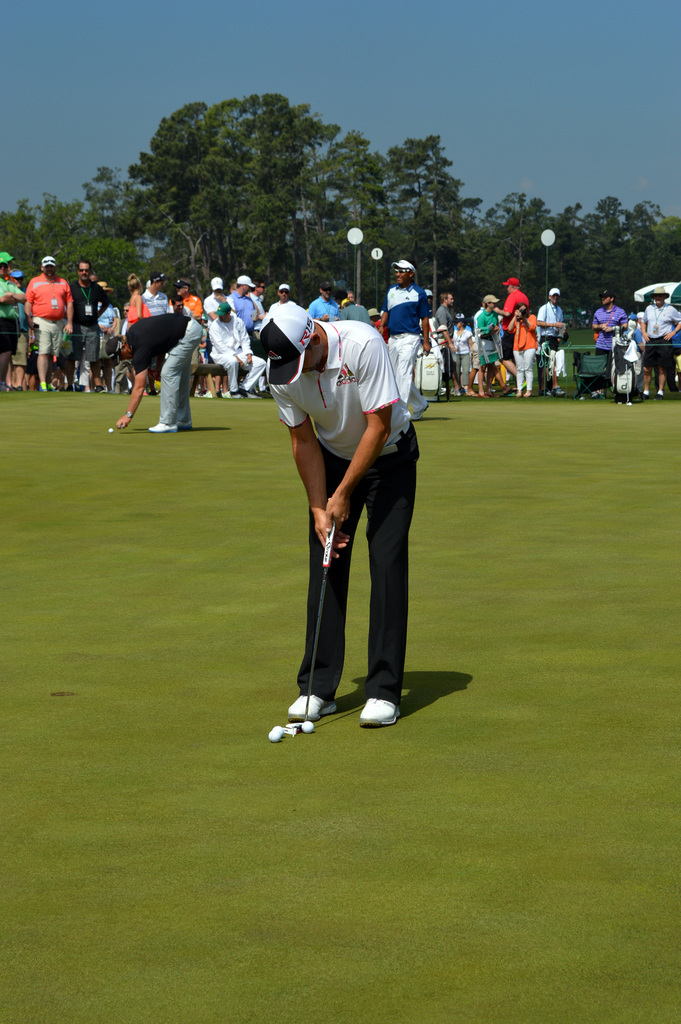Person: (0, 251, 681, 725)
